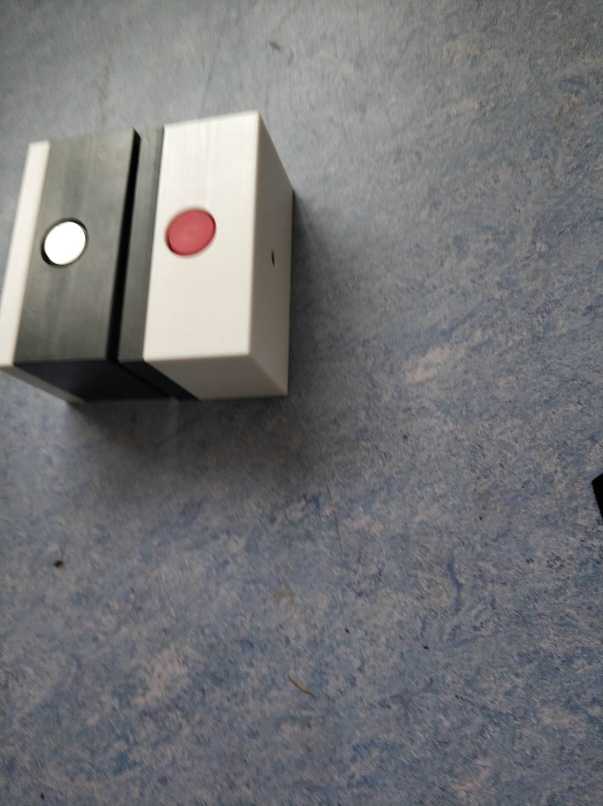black+white+red: (119, 108, 297, 402)
white+black+silver: (1, 125, 142, 409)
